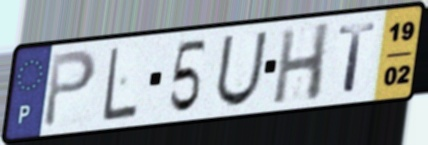5: (167, 37, 209, 114)
H: (270, 20, 334, 107)
L: (101, 44, 140, 124)
P: (41, 47, 99, 131)
T: (337, 20, 379, 95)
U: (213, 29, 271, 109)
